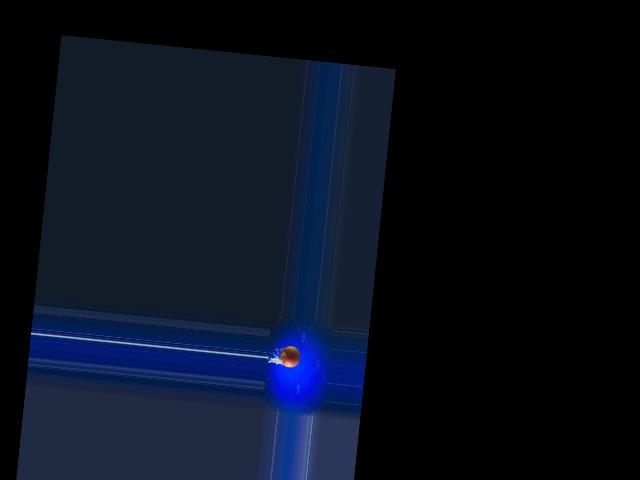tomato: (279, 344, 301, 368)
